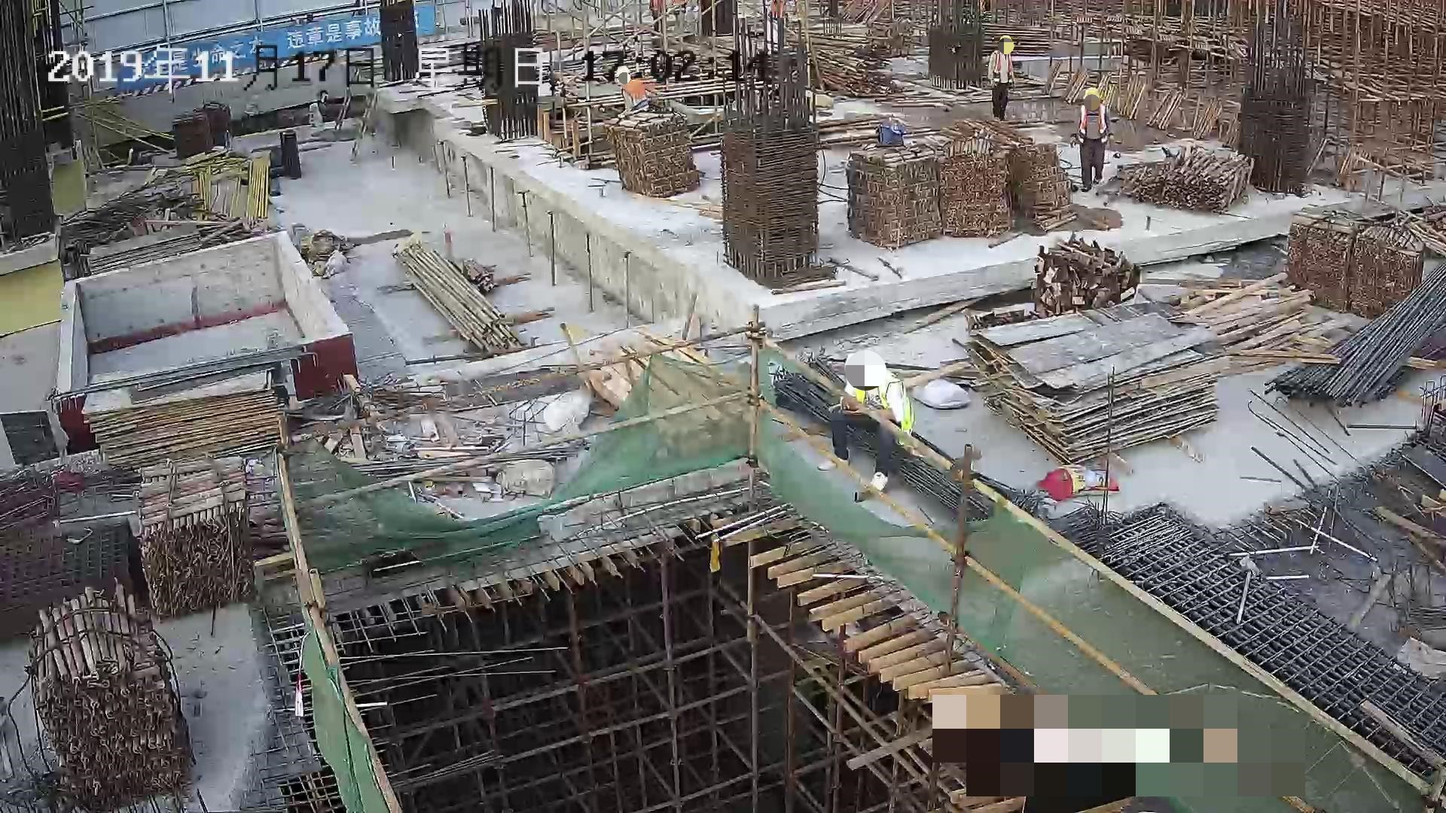hat: (844, 351, 876, 394), (1084, 88, 1100, 105), (618, 64, 630, 84), (1001, 34, 1014, 49)
person: (815, 347, 915, 492), (1069, 86, 1115, 192), (614, 65, 660, 120), (989, 35, 1016, 123)
